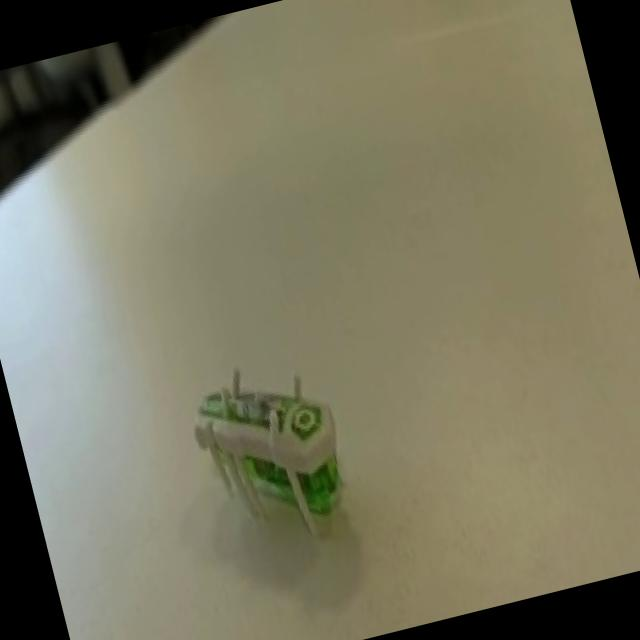4_NanoBug_Blanco: (147, 312, 398, 582)
